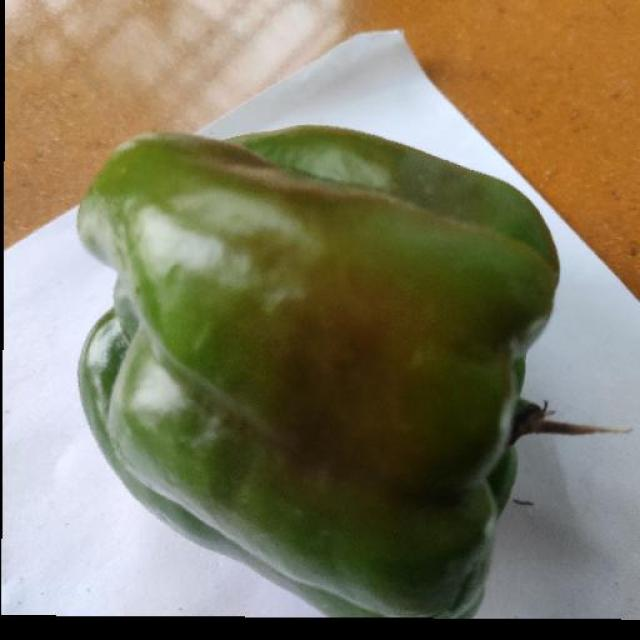Stale_Capsicum: (124, 100, 496, 611)
